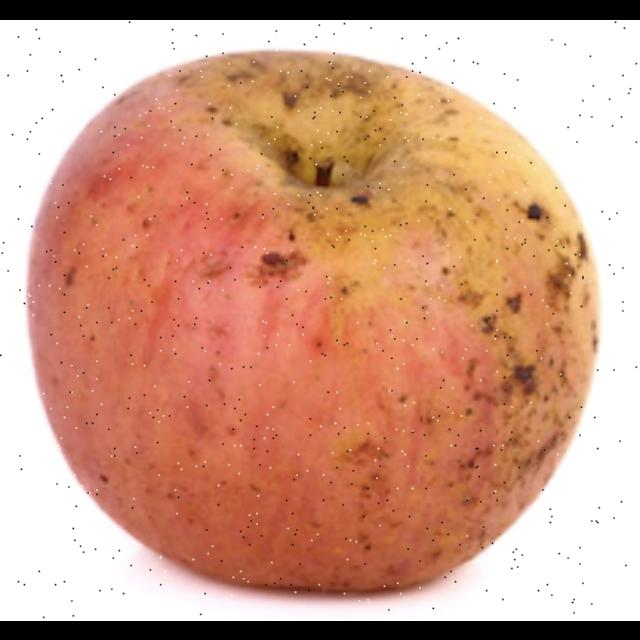Apel Tidak Segar: (26, 46, 598, 596)
